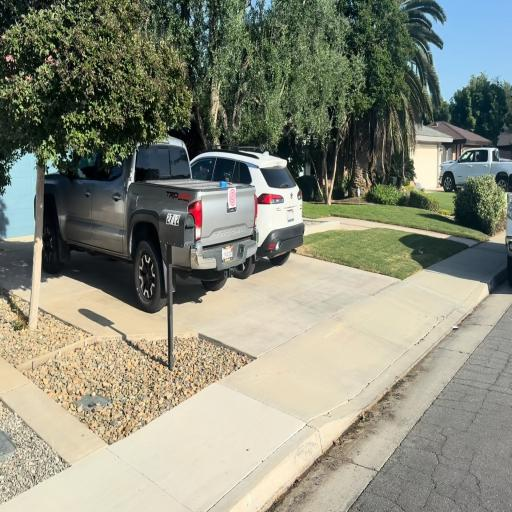bullseye: (228, 188, 236, 208)
